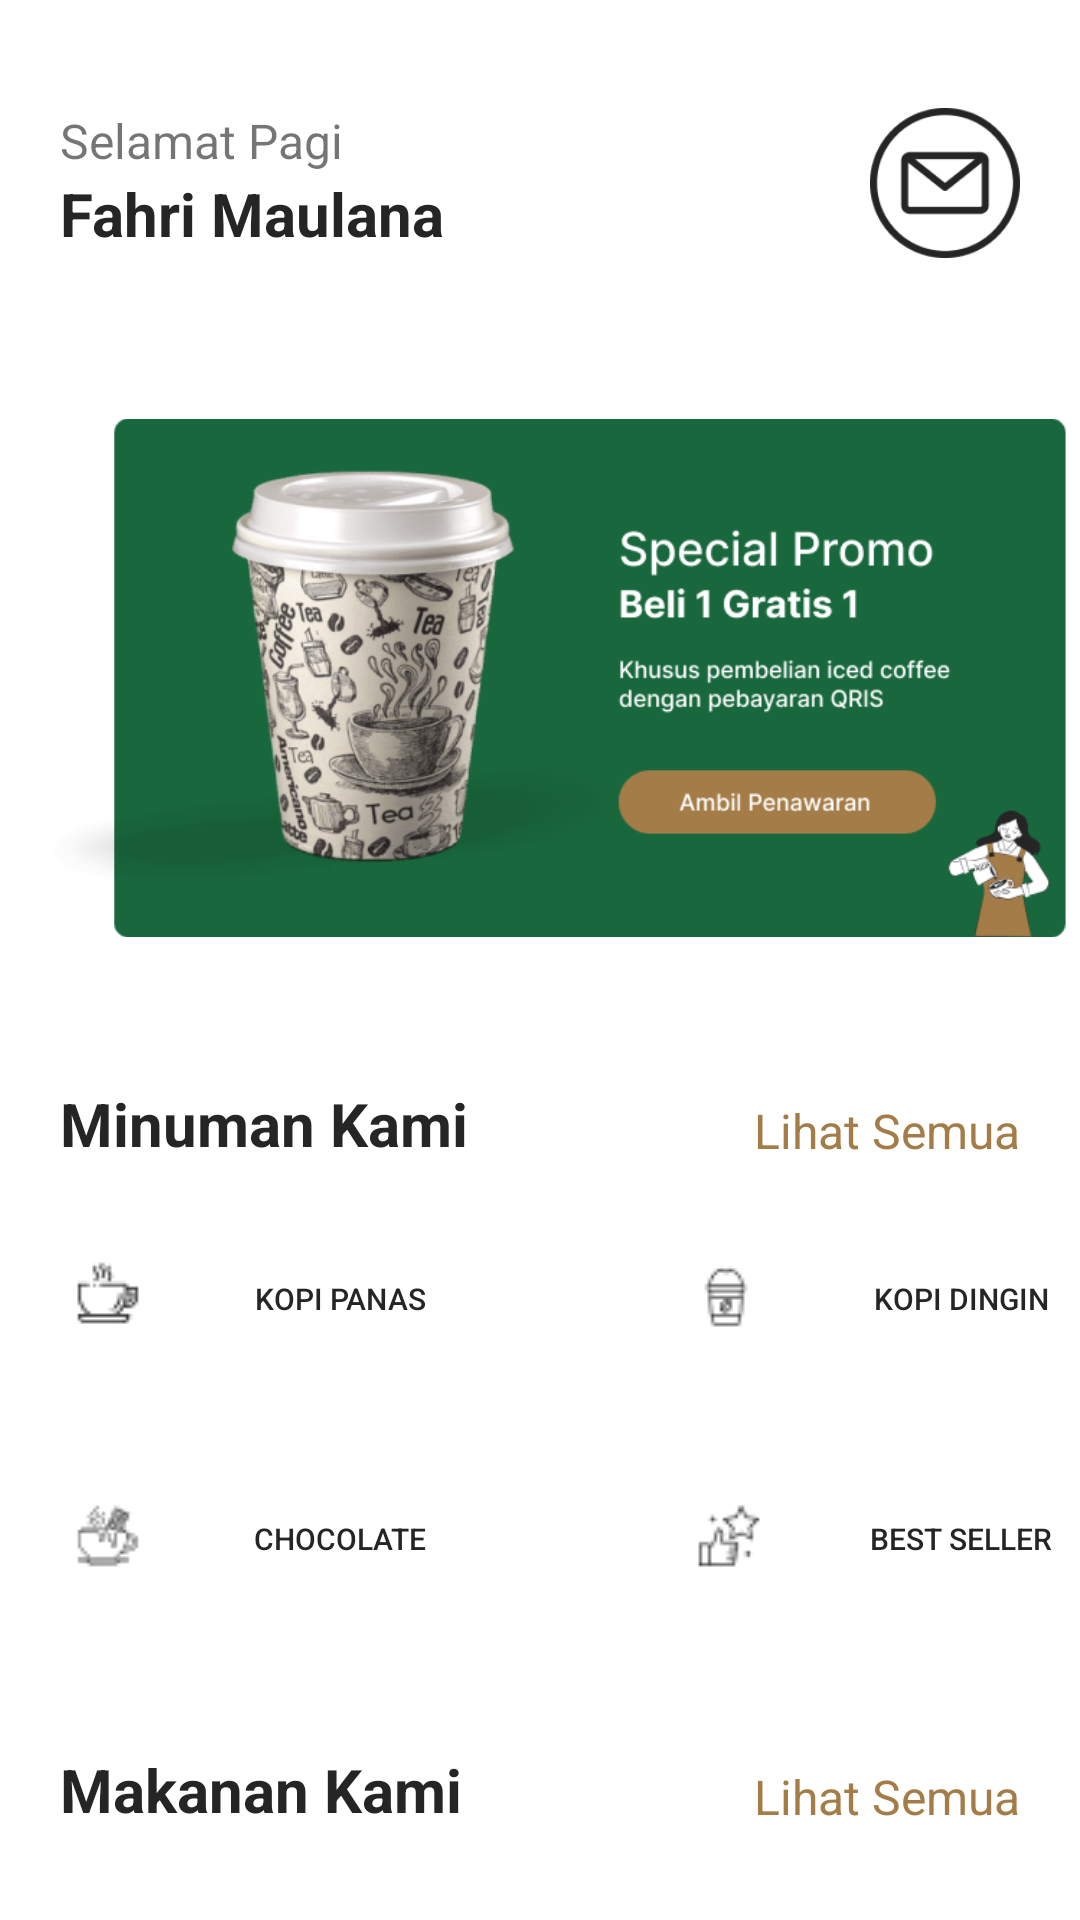

Named icons in this screenshot (1080px×1920px) and their centers, point (x, y):
inbox: point (945, 183)
